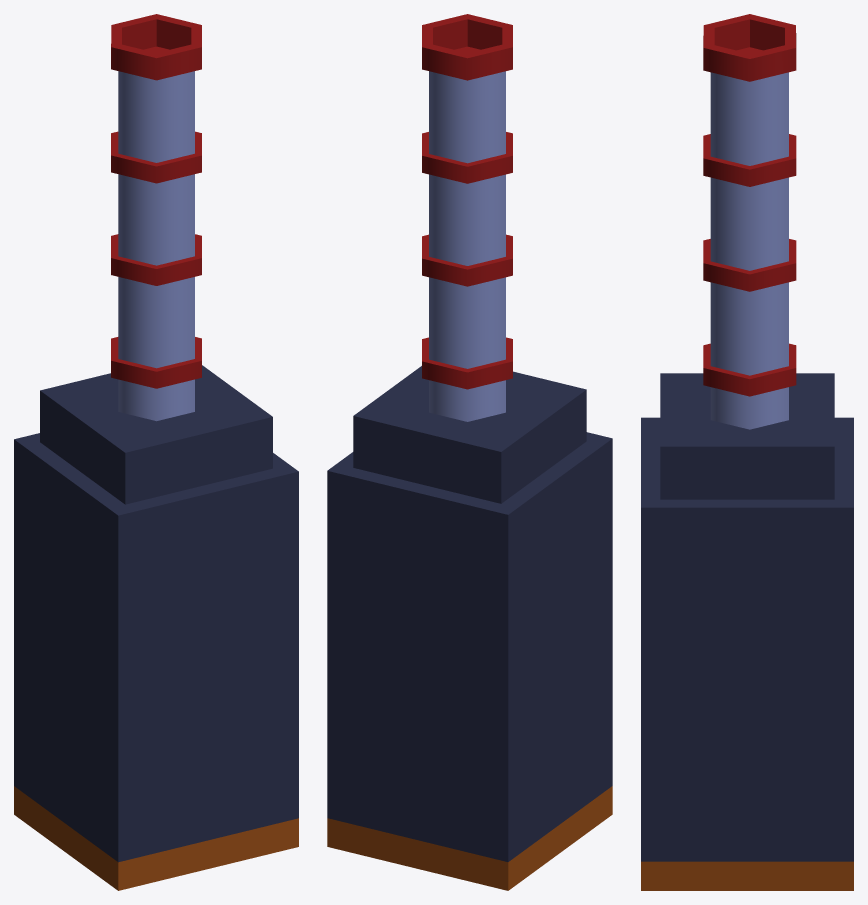
Rendered from Factory_part4-2.FBX.
3 views of the same model, side by side, from view 1: azimuth 30°, elevation 25°; view 2: azimuth 150°, elevation 25°; view 3: azimuth 270°, elevation 25° (orthographic). The views are drawn at different scales.
Visible parts, largest first — view 1: Factory_part4-2; view 2: Factory_part4-2; view 3: Factory_part4-2.
Part boxes in pixels (bbox=[...]): Factory_part4-2: bbox=[14, 14, 298, 890]; Factory_part4-2: bbox=[327, 14, 612, 890]; Factory_part4-2: bbox=[641, 14, 853, 890].
Size of the model in its own units: 70 by 294 by 70.
